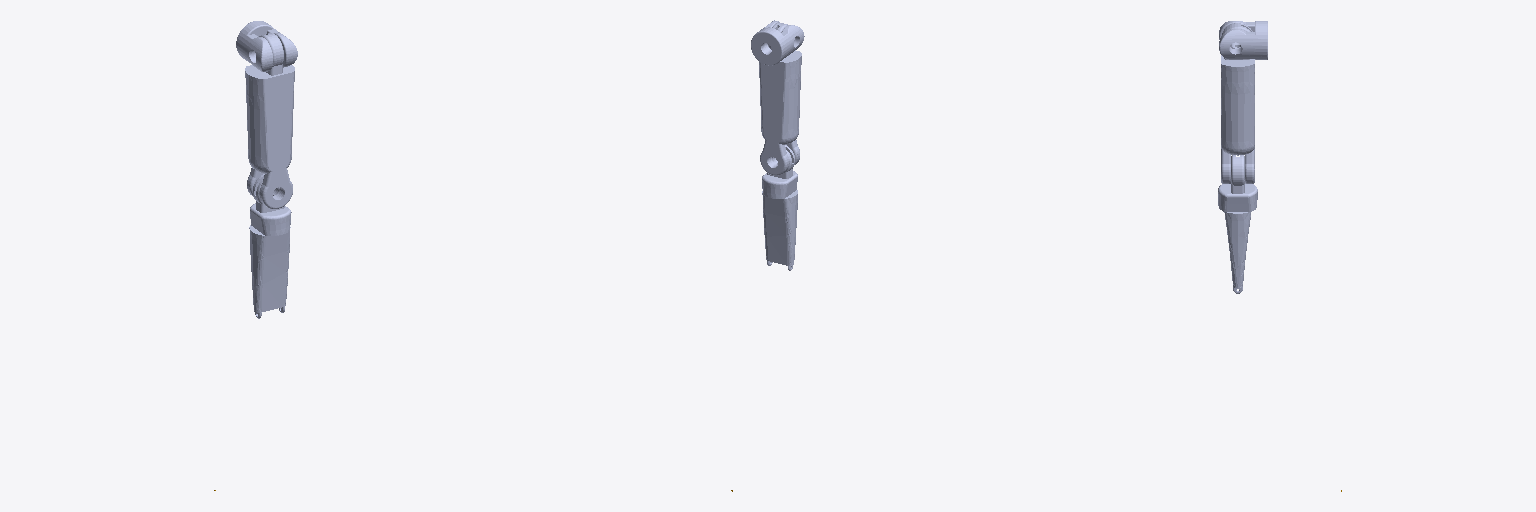
robot.urdf — pluto:
<?xml version="1.0" ?>
<!-- =================================================================================== -->
<!-- |    This document was autogenerated by xacro from pluto.xacro                    | -->
<!-- |    EDITING THIS FILE BY HAND IS NOT RECOMMENDED                                 | -->
<!-- =================================================================================== -->
<robot name="pluto">
  <link name="base_footprint">
    <inertial>
      <mass value="10"/>
      <inertia ixx="1.6666666666666667e-06" ixy="0.0" ixz="0.0" iyy="1.6666666666666667e-06" iyz="0.0" izz="1.6666666666666667e-06"/>
    </inertial>
    <visual>
      <origin rpy="0 0 0" xyz="0 0 0"/>
      <geometry>
        <box size="0.001 0.001 0.001"/>
      </geometry>
    </visual>
  </link>
  <link name="base_link">
    <inertial>
      <mass value="50"/>
      <inertia ixx="2.1505333333333336" ixy="0.0" ixz="0.0" iyy="2.1505333333333336" iyz="0.0" izz="2.1505333333333336"/>
    </inertial>
    <visual>
      <origin rpy="0 0 0" xyz="-0.015 -0.00275 0"/>
      <geometry>
        <!--box size="${base_length} ${base_width} ${base_height}" /-->
        <mesh filename="package://pluto/models/Chassis.dae" scale="1 1 1"/>
      </geometry>
    </visual>
    <collision>
      <origin rpy="0 0 0" xyz="-0.015 -0.00275 0"/>
      <geometry>
        <!--box size="${base_length} ${base_width} ${base_height}"/-->
        <mesh filename="package://pluto/models/Chassis.dae" scale="1 1 1"/>
      </geometry>
    </collision>
  </link>
  <joint name="base_link_joint" type="fixed">
    <origin rpy="0 0 0" xyz="0 0 0"/>
    <parent link="base_footprint"/>
    <child link="base_link"/>
  </joint>
  <link name="torso">
    <inertial>
      <mass value="20"/>
      <inertia ixx="0.4010744666666667" ixy="0.0" ixz="0.0" iyy="0.45591306666666664" iyz="0.0" izz="0.16021473333333336"/>
    </inertial>
    <visual>
      <origin rpy="0 0 0" xyz="0 0 0.32"/>
      <geometry>
        <mesh filename="package://pluto/models/Torso.dae" scale="1 1 1"/>
      </geometry>
    </visual>
    <collision>
      <origin rpy="0 0 0" xyz="0 0 0.32"/>
      <geometry>
        <mesh filename="package://pluto/models/Torso.dae" scale="1 1 1"/>
      </geometry>
    </collision>
  </link>
  <joint name="torso_joint" type="revolute">
    <axis rpy="0 0 0" xyz="0 0 1"/>
    <parent link="base_link"/>
    <child link="torso"/>
    <origin rpy="0 0 0" xyz="0 0 0"/>
    <limit effort="1.0" lower="0" upper="3.14159" velocity="1.0"/>
  </joint>
  <link name="right_shoulder">
    <visual>
      <origin rpy="0 0 0" xyz="0 0 0"/>
      <geometry>
        <mesh filename="package://pluto/models/Shoulder.dae" scale="1 1 1"/>
      </geometry>
    </visual>
    <collision>
      <origin rpy="0 0 0" xyz="0 0 0"/>
      <geometry>
        <mesh filename="package://pluto/models/Shoulder.dae" scale="1 1 1"/>
      </geometry>
      <surface>
        <friction>
          <ode>
            <mu>0.01</mu>
            <mu2>0.01</mu2>
          </ode>
        </friction>
      </surface>
    </collision>
    <inertial>
      <mass value="3"/>
      <inertia ixx="0.0030645100000000008" ixy="0" ixz="0" iyy="0.0030645100000000008" iyz="0" izz="0.0021774150000000003"/>
    </inertial>
  </link>
  <joint name="right_shoulder_joint" type="revolute">
    <axis rpy="0 0 0" xyz="0 1 0"/>
    <parent link="torso"/>
    <child link="right_shoulder"/>
    <origin rpy="0 0 0" xyz="0 -0.055 0.372"/>
    <limit effort="1.0" lower="0" upper="3.14159" velocity="1.0"/>
  </joint>
  <link name="right_upper_arm_bottom">
    <visual>
      <origin rpy="0 0 0" xyz="0 0 0"/>
      <geometry>
        <mesh filename="package://pluto/models/UpperArmBottom.dae" scale="1 1 1"/>
      </geometry>
    </visual>
    <collision>
      <origin rpy="0 0 0" xyz="0 0 0"/>
      <geometry>
        <mesh filename="package://pluto/models/UpperArmBottom.dae" scale="1 1 1"/>
      </geometry>
      <surface>
        <friction>
          <ode>
            <mu>0.01</mu>
            <mu2>0.01</mu2>
          </ode>
        </friction>
      </surface>
    </collision>
    <inertial>
      <mass value="0.5"/>
      <inertia ixx="0.002814174479166667" ixy="0" ixz="0" iyy="0.002814174479166667" iyz="0" izz="0.000252015625"/>
    </inertial>
  </link>
  <joint name="right_upper_arm_bottom_joint" type="revolute">
    <axis rpy="0 0 0" xyz="1 0 0"/>
    <parent link="right_shoulder"/>
    <child link="right_upper_arm_bottom"/>
    <origin rpy="0 0 0" xyz="0 -0.0225 0"/>
    <limit effort="1.0" lower="0" upper="3.14159" velocity="1.0"/>
  </joint>
  <link name="right_upper_arm_top">
    <visual>
      <origin rpy="0 0 0" xyz="0 0 0"/>
      <geometry>
        <mesh filename="package://pluto/models/UpperArmTop.dae" scale="1 1 1"/>
      </geometry>
    </visual>
    <collision>
      <origin rpy="0 0 0" xyz="0 0 0"/>
      <geometry>
        <mesh filename="package://pluto/models/UpperArmTop.dae" scale="1 1 1"/>
      </geometry>
      <surface>
        <friction>
          <ode>
            <mu>0.01</mu>
            <mu2>0.01</mu2>
          </ode>
        </friction>
      </surface>
    </collision>
    <inertial>
      <mass value="4"/>
      <inertia ixx="0.022513395833333335" ixy="0" ixz="0" iyy="0.022513395833333335" iyz="0" izz="0.002016125"/>
    </inertial>
  </link>
  <joint name="right_upper_arm_top_joint" type="revolute">
    <axis rpy="0 0 0" xyz="0 0 1"/>
    <parent link="right_upper_arm_bottom"/>
    <child link="right_upper_arm_top"/>
    <origin rpy="0 0 0" xyz="0 0 -0.03125"/>
    <limit effort="1.0" lower="0.0" upper="3.14159" velocity="1.0"/>
  </joint>
  <link name="right_forearm_bottom">
    <visual>
      <origin rpy="0 0 0" xyz="0 0 0"/>
      <geometry>
        <mesh filename="package://pluto/models/ForearmBottom.dae" scale="1 1 1"/>
      </geometry>
    </visual>
    <collision>
      <origin rpy="0 0 0" xyz="0 0 0"/>
      <geometry>
        <mesh filename="package://pluto/models/ForearmBottom.dae" scale="1 1 1"/>
      </geometry>
      <!--surface>
         <friction>
          <ode>
            <mu>1000.0</mu>
            <mu2>1000.0</mu2>
          </ode>
         </friction>
       </surface-->
    </collision>
    <inertial>
      <mass value="0.5"/>
      <inertia ixx="0.0005561144791666667" ixy="0" ixz="0" iyy="0.0005561144791666667" iyz="0" izz="0.000252015625"/>
    </inertial>
  </link>
  <joint name="right_forearm_bottom_joint" type="revolute">
    <axis rpy="0 0 0" xyz="0 1 0"/>
    <parent link="right_upper_arm_top"/>
    <child link="right_forearm_bottom"/>
    <origin rpy="0 1.5707963267948966 0" xyz="0 0 -0.07625"/>
    <limit effort="1.0" lower="-0" upper="3.14159" velocity="1.0"/>
    <dyanamics damping="10.0" friction="10.0"/>
  </joint>
  <link name="right_forearm_top">
    <visual>
      <origin rpy="0 0 0" xyz="0 0 0"/>
      <geometry>
        <mesh filename="package://pluto/models/ForearmTop.dae" scale="1 1 1"/>
      </geometry>
    </visual>
    <collision>
      <origin rpy="0 0 0" xyz="0 0 0"/>
      <geometry>
        <mesh filename="package://pluto/models/ForearmTop.dae" scale="1 1 1"/>
      </geometry>
      <!--surface>
         <friction>
          <ode>
            <mu>1.0</mu>
            <mu2>1.0</mu2>
          </ode>
         </friction>
       </surface-->
    </collision>
    <inertial>
      <mass value="0.4"/>
      <inertia ixx="0.0004448915833333333" ixy="0" ixz="0" iyy="0.0004448915833333333" iyz="0" izz="0.00020161250000000003"/>
    </inertial>
  </link>
  <joint name="right_forearm_top_joint" type="revolute">
    <axis rpy="0 0 0" xyz="1 0 0"/>
    <parent link="right_forearm_bottom"/>
    <child link="right_forearm_top"/>
    <origin rpy="0 0 0" xyz="0.029 0 0"/>
    <limit effort="1.0" lower="0.0" upper="3.14159" velocity="1.0"/>
  </joint>
</robot>

--- Facts derived from the render (not from the file) ---
3 views of the same robot in one strip: view 1: azimuth 30°, elevation 25°; view 2: azimuth 150°, elevation 25°; view 3: azimuth 270°, elevation 25° (orthographic).
Model pluto with 8 links and 7 joints (6 revolute, 1 fixed), rooted at base_footprint, posed all joints at 0.
Links seen in each view (by area): view 1: right_upper_arm_top, right_forearm_top, right_upper_arm_bottom, right_shoulder, right_forearm_bottom; view 2: right_upper_arm_top, right_forearm_top, right_shoulder, right_forearm_bottom, right_upper_arm_bottom; view 3: right_upper_arm_top, right_shoulder, right_forearm_bottom, right_forearm_top, right_upper_arm_bottom.
Boxes of the visible links, box(x1,y1,x2,y2) form: right_upper_arm_top: box(246, 94, 293, 208); right_forearm_top: box(249, 225, 290, 318); right_upper_arm_bottom: box(245, 33, 294, 101); right_shoulder: box(236, 21, 297, 71); right_forearm_bottom: box(250, 174, 291, 235); right_upper_arm_top: box(759, 75, 800, 175); right_forearm_top: box(762, 190, 797, 270); right_shoulder: box(751, 20, 804, 65); right_forearm_bottom: box(762, 145, 797, 198); right_upper_arm_bottom: box(759, 23, 801, 81); right_upper_arm_top: box(1221, 85, 1254, 183); right_shoulder: box(1219, 21, 1267, 59); right_forearm_bottom: box(1218, 155, 1257, 211); right_forearm_top: box(1224, 212, 1250, 293); right_upper_arm_bottom: box(1221, 23, 1254, 87).
Size in the robot's own frame: 0.0349 by 0.0929 by 0.3875 metres.
5 mesh visuals loaded from 7 distinct referenced files (5 Collada DAE); not drawn: 2 (reference not matched to a file when rendering).